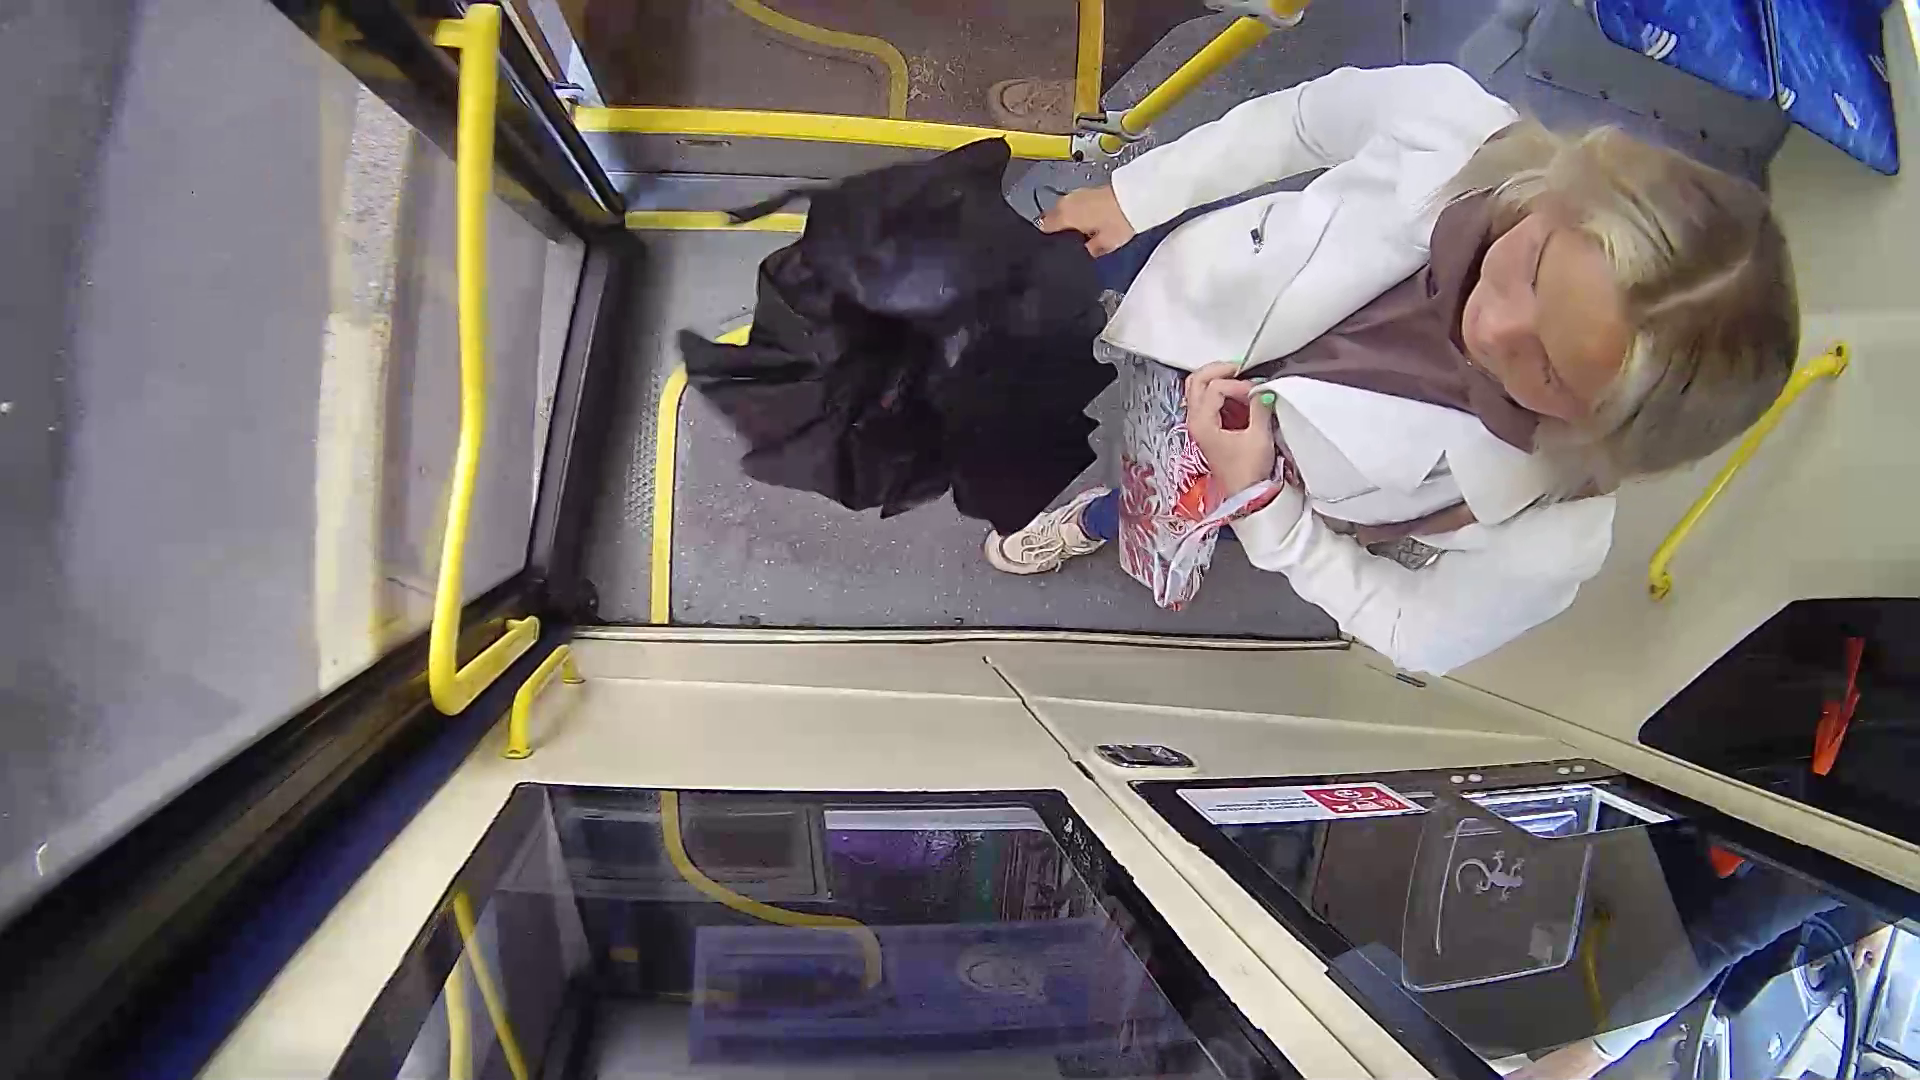person: (760, 59, 1810, 672)
